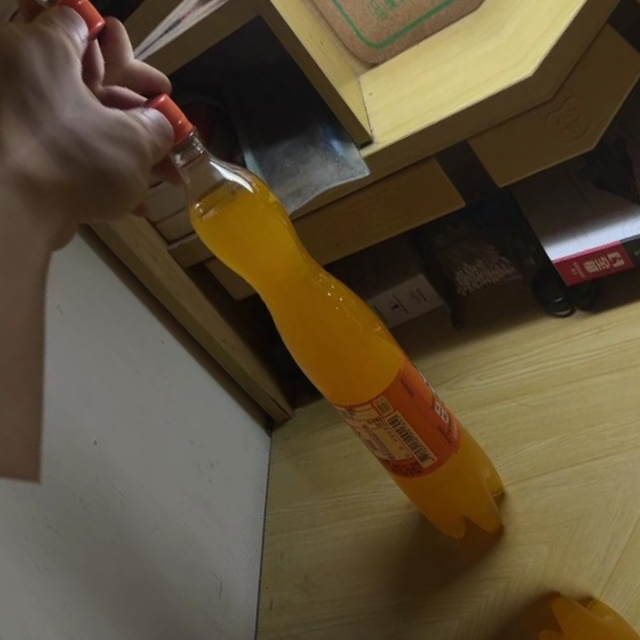Fanta: (99, 71, 532, 562)
